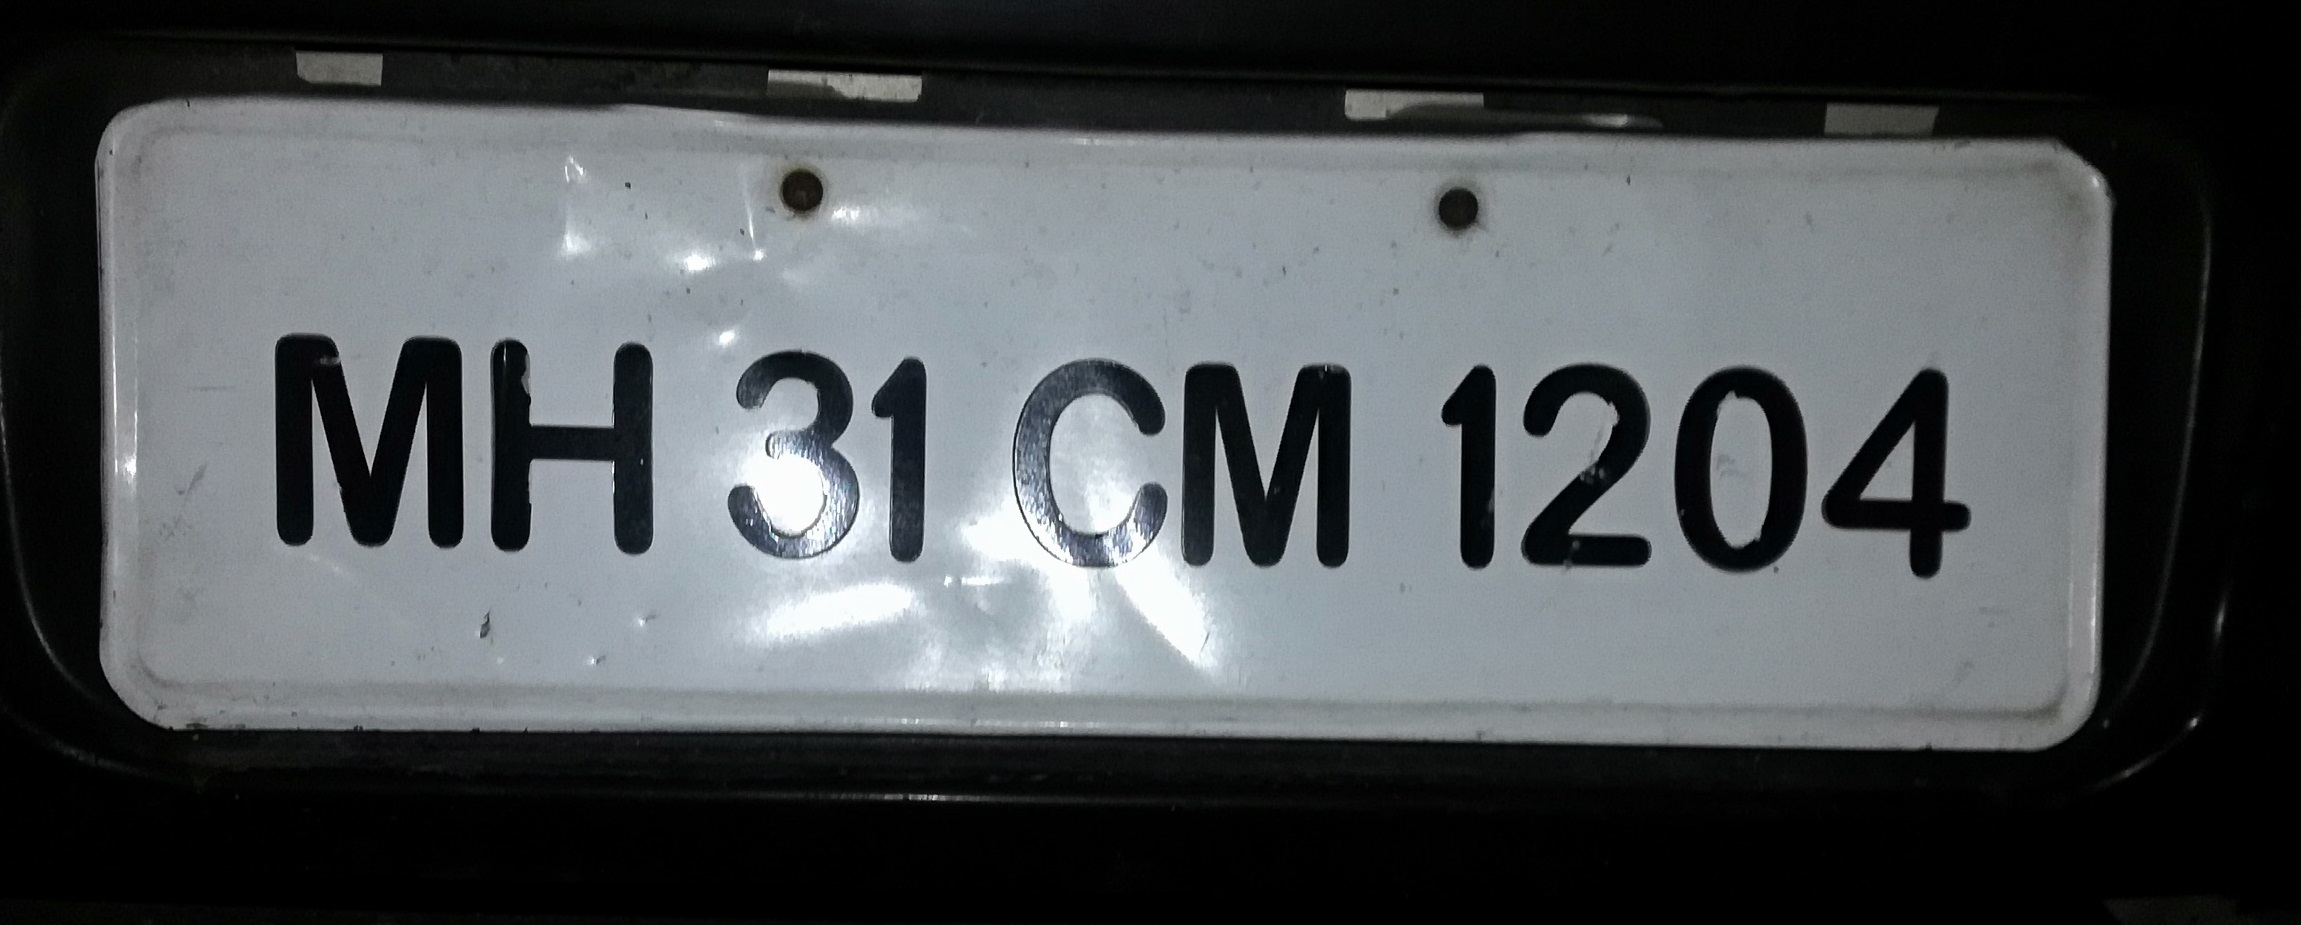numberplate: (92, 91, 2121, 762)
